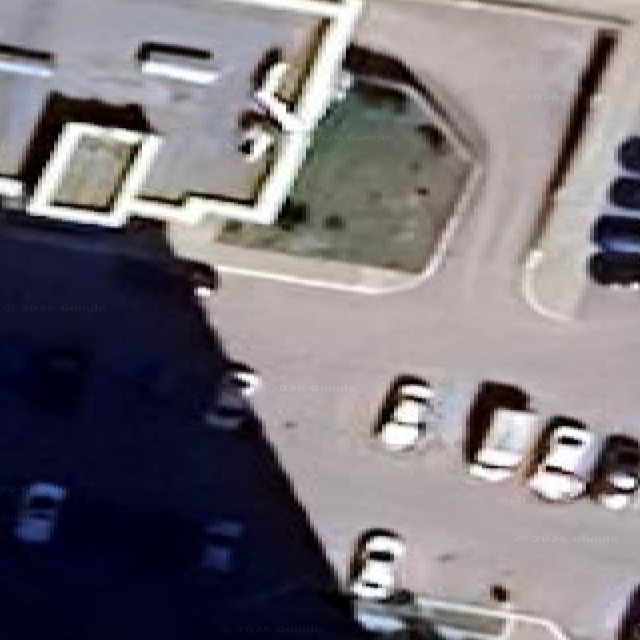car: (464, 381, 537, 480), (528, 417, 597, 501), (469, 408, 539, 481), (374, 379, 433, 451), (350, 531, 404, 600), (590, 434, 639, 509), (204, 364, 260, 429), (14, 482, 66, 543), (588, 252, 639, 289), (592, 215, 639, 253), (608, 176, 639, 210), (617, 136, 639, 172)
